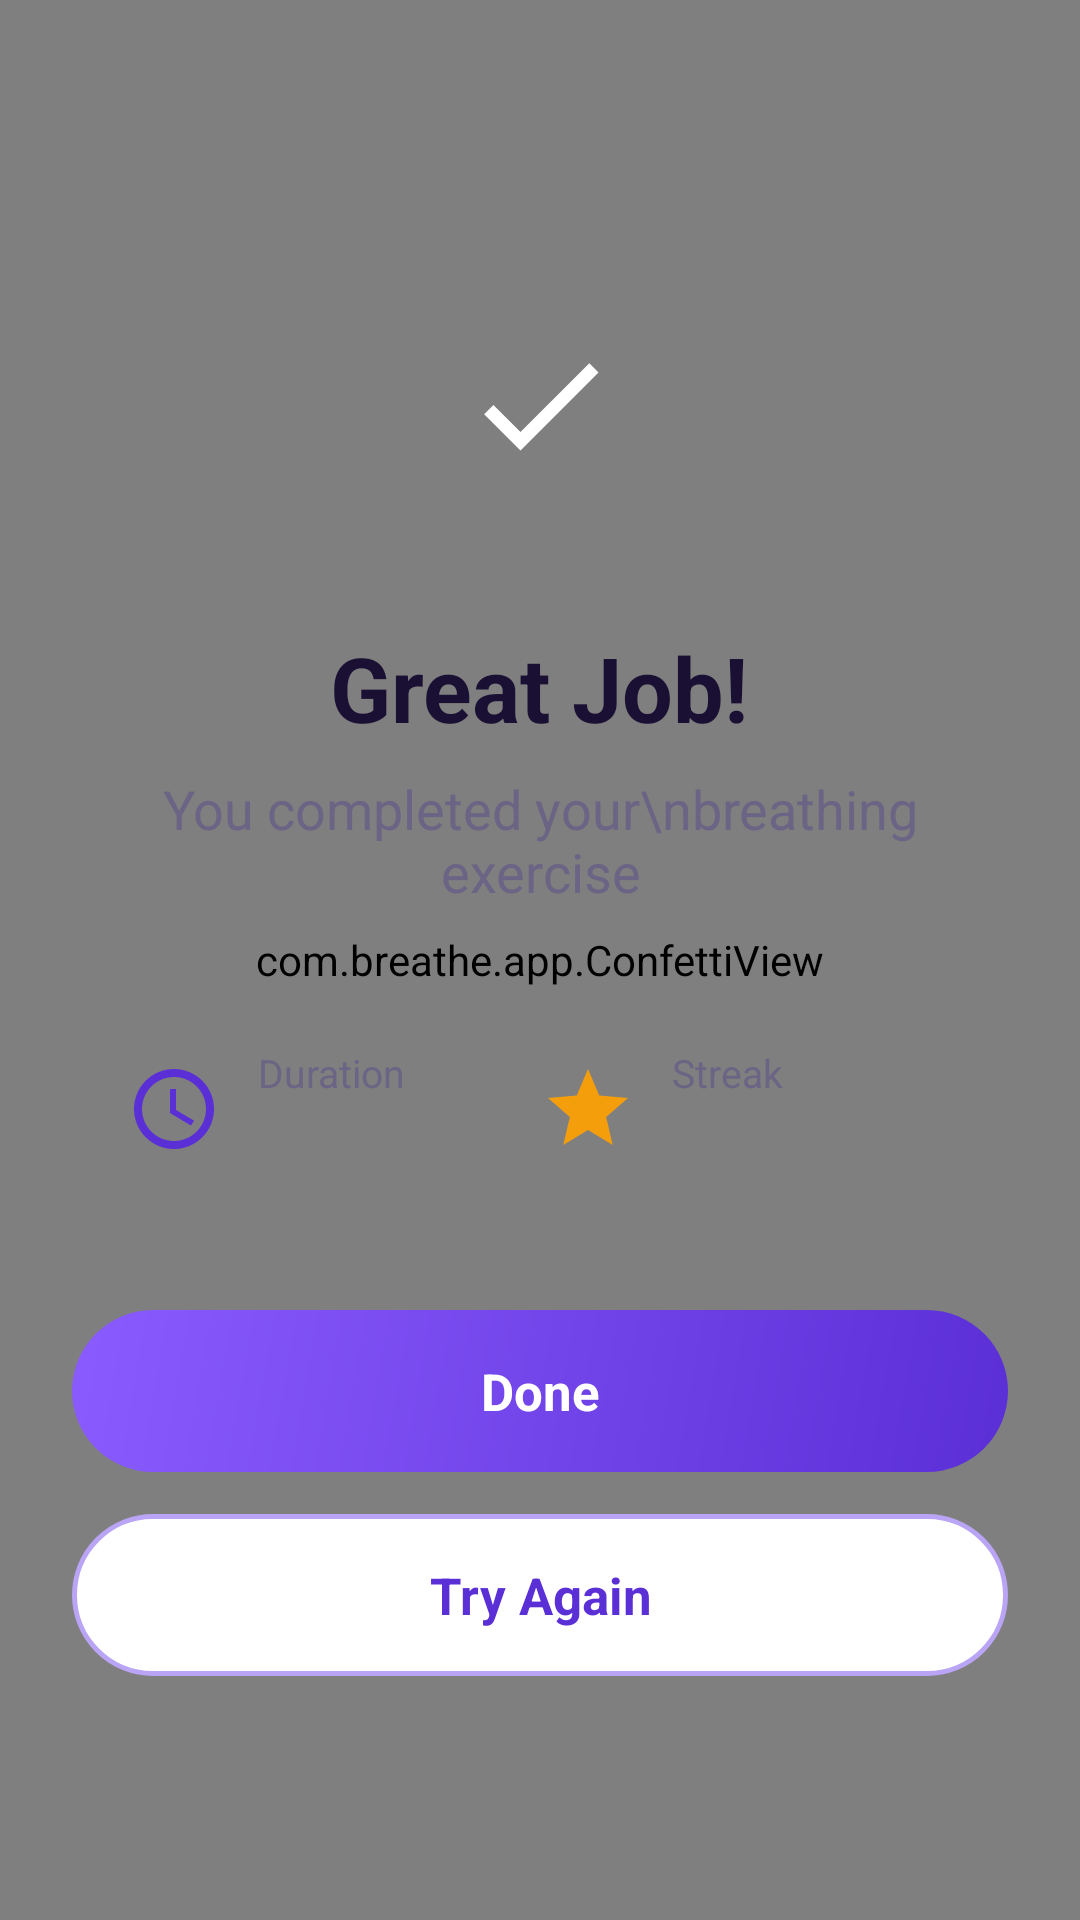

Named icons in this screenshot (1080 x 1920) and their centers, (x,y):
check: (541,407)
clock: (174,1109)
star: (588,1107)
